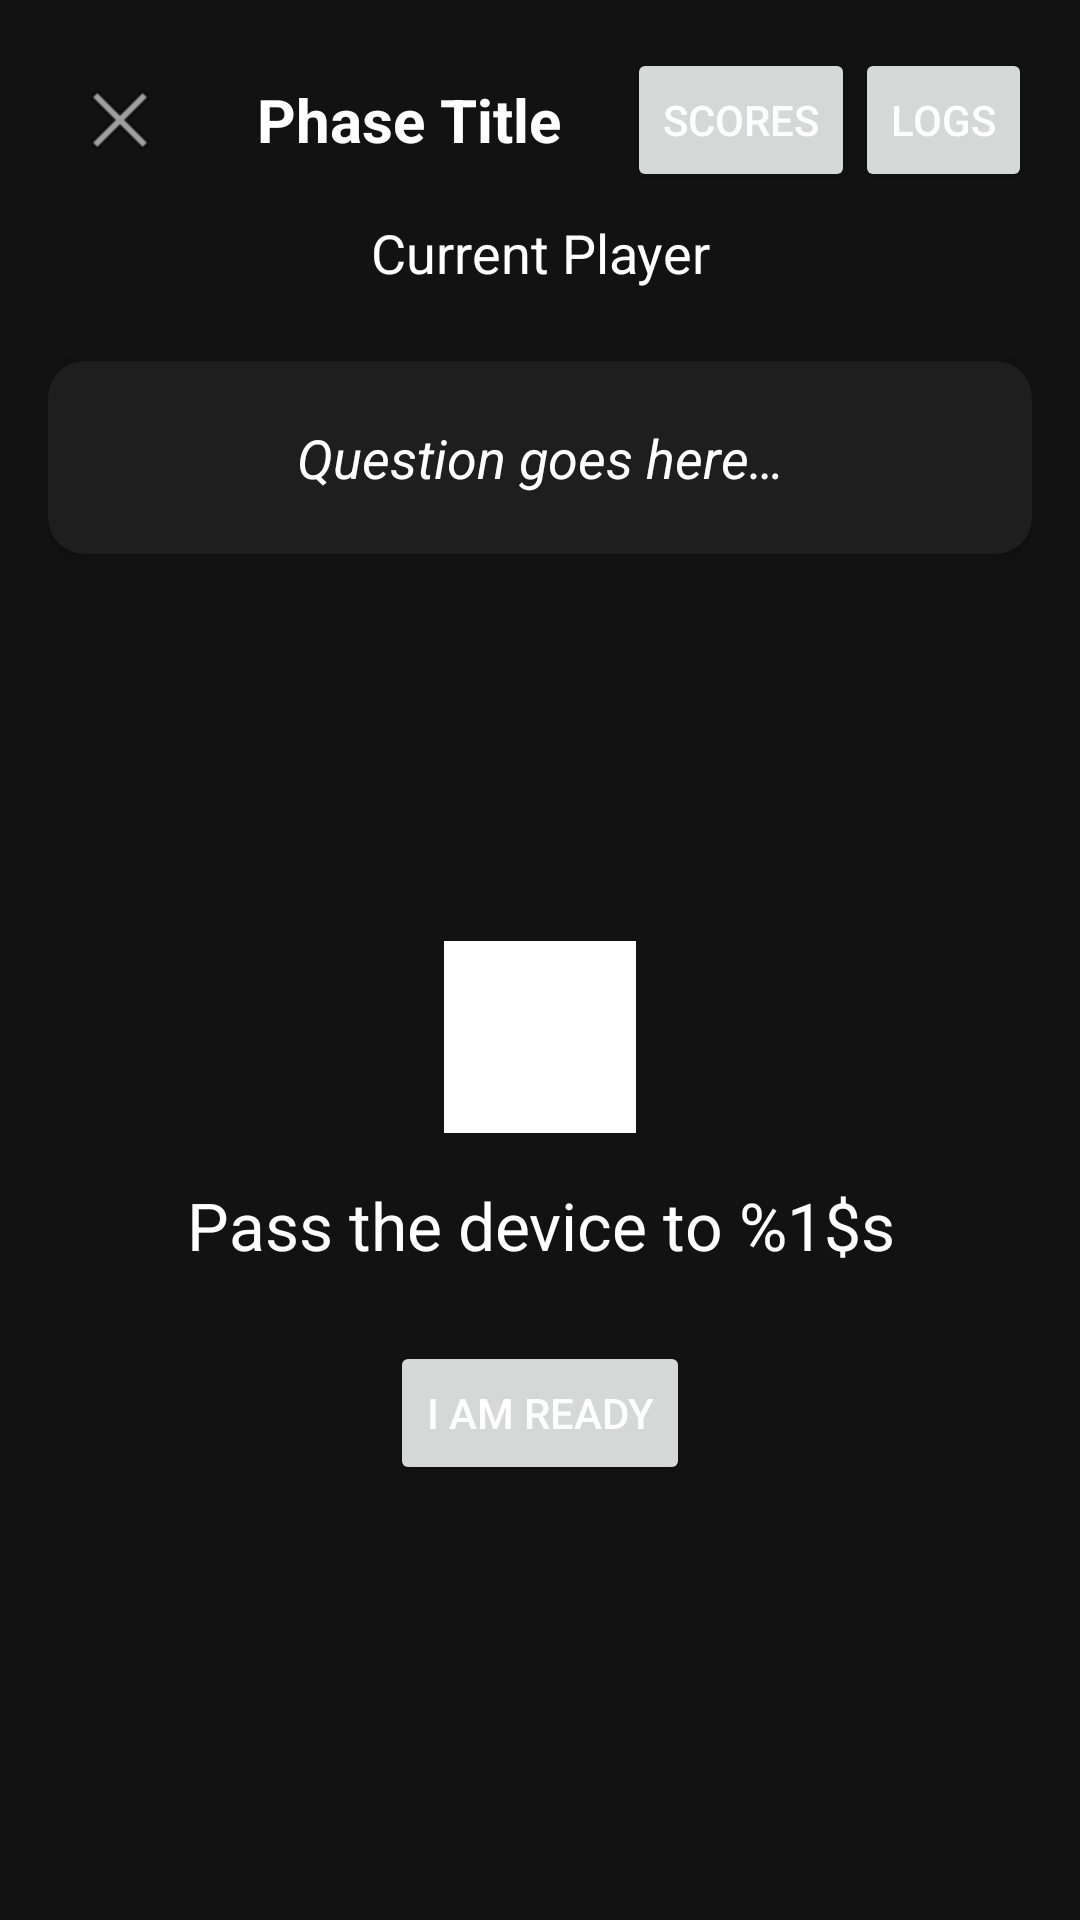

Named icons in this screenshot (1080 x 1920) and their centers, point (x, y):
close clear cancel: point (120, 120)
